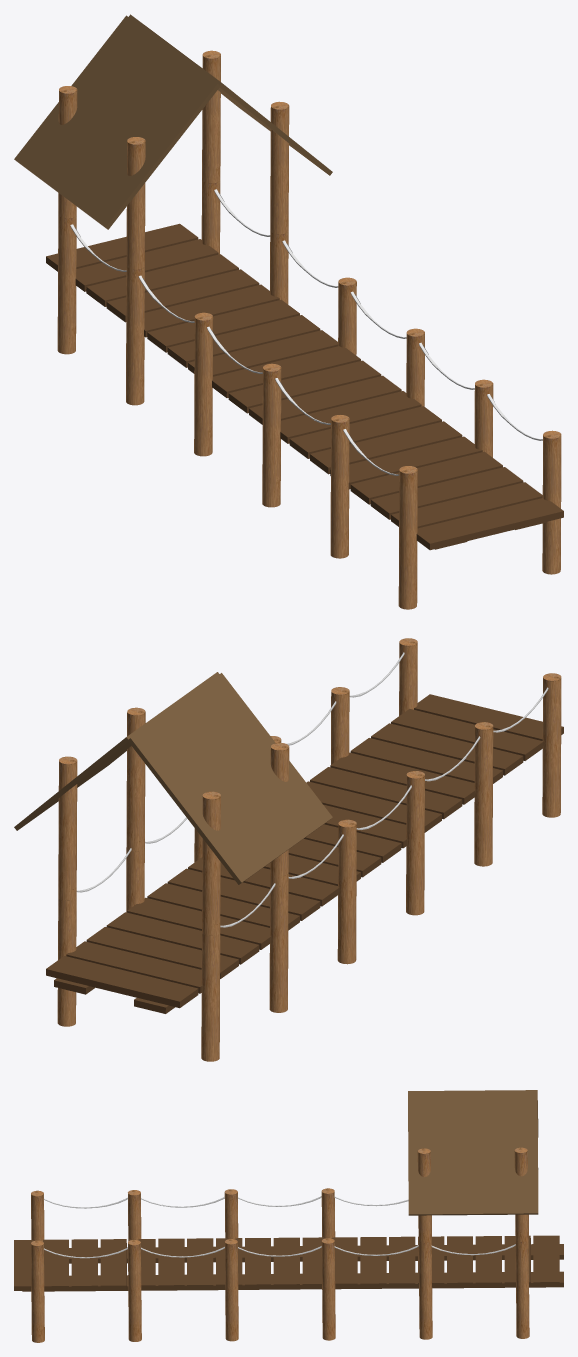
File: pier.zfix-v1.lod0.glb
3 views of the same model, one above another, from view 1: azimuth 30°, elevation 25°; view 2: azimuth 150°, elevation 25°; view 3: azimuth 270°, elevation 25° (orthographic). The views are drawn at different scales.
Visible parts, largest first — view 1: Cube.001_Baked_Cube.001_Baked_0, Cylinder.002_Baked_Cylinder.002_Baked_0, Cylinder.001_Baked_Material_0; view 2: Cube.001_Baked_Cube.001_Baked_0, Cylinder.002_Baked_Cylinder.002_Baked_0, Cylinder.001_Baked_Material_0; view 3: Cube.001_Baked_Cube.001_Baked_0, Cylinder.002_Baked_Cylinder.002_Baked_0, Cylinder.001_Baked_Material_0.
Part boxes in pixels (box(x1,y1,x2,y2)): Cube.001_Baked_Cube.001_Baked_0: box(14, 14, 563, 550); Cylinder.002_Baked_Cylinder.002_Baked_0: box(57, 50, 561, 609); Cylinder.001_Baked_Material_0: box(70, 189, 542, 475); Cube.001_Baked_Cube.001_Baked_0: box(14, 672, 563, 1013); Cylinder.002_Baked_Cylinder.002_Baked_0: box(57, 638, 561, 1061); Cylinder.001_Baked_Material_0: box(76, 652, 548, 927); Cube.001_Baked_Cube.001_Baked_0: box(14, 1090, 563, 1291); Cylinder.002_Baked_Cylinder.002_Baked_0: box(31, 1147, 529, 1342); Cylinder.001_Baked_Material_0: box(44, 1196, 515, 1258).
Size of the model in its own units: 8.15 by 10.81 by 24.
Materials: 3 (1 with a texture image).
